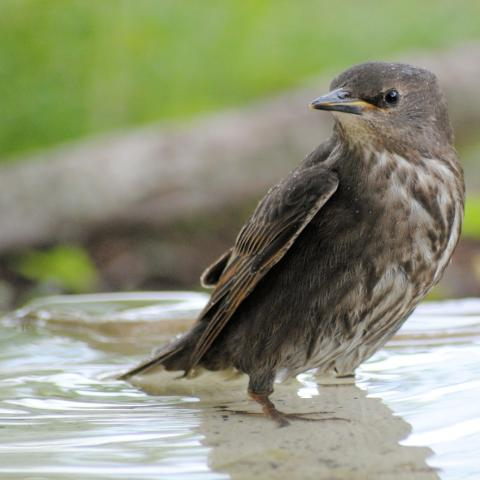bird: (116, 59, 466, 429)
